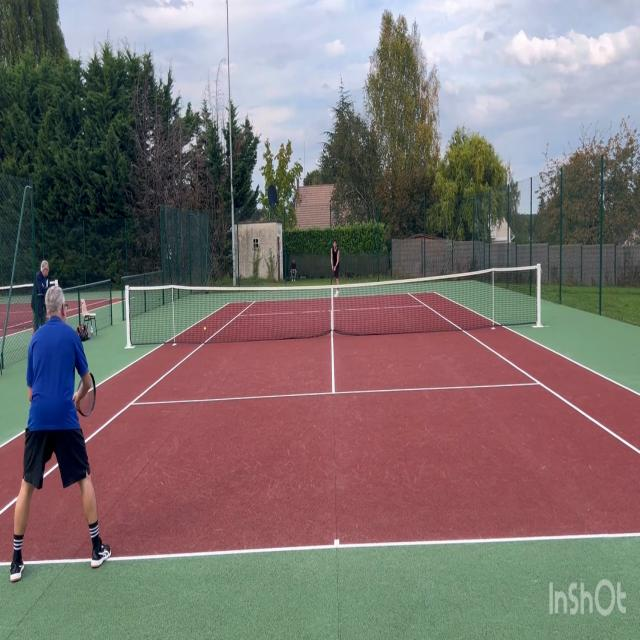ball: (204, 325, 206, 331)
